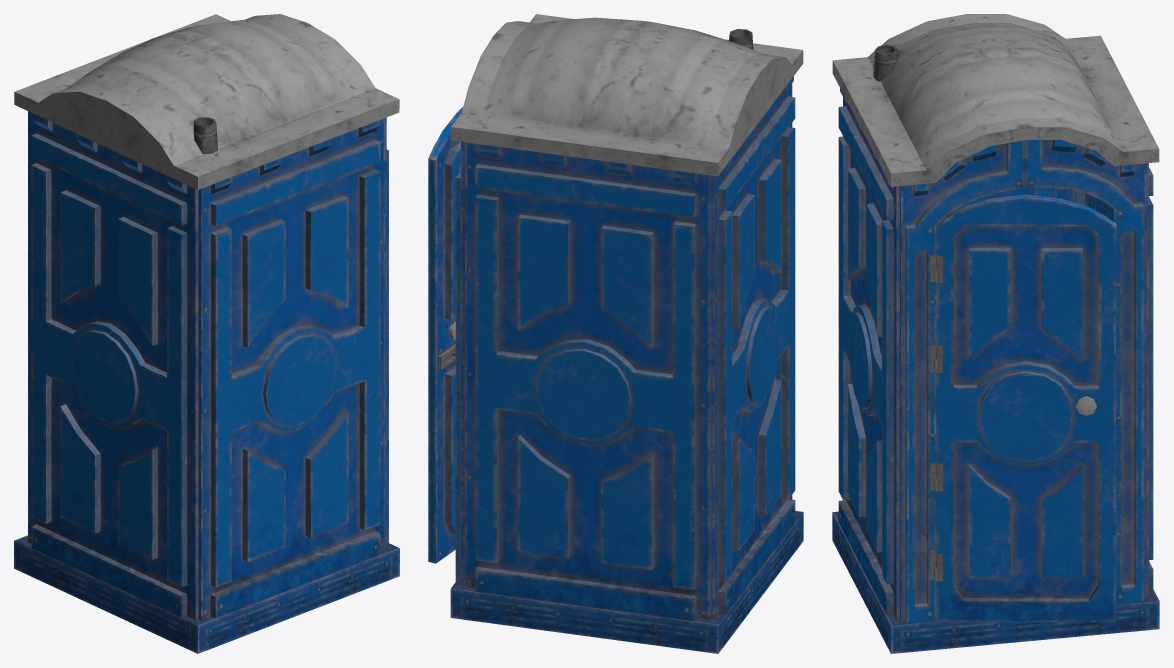
Rendered from Archery_Biotoilet01.fbx.
3 views of the same model, side by side, from view 1: azimuth 30°, elevation 25°; view 2: azimuth 150°, elevation 25°; view 3: azimuth 270°, elevation 25° (orthographic). The views are drawn at different scales.
Visible parts, largest first — view 1: ItemBox_Biotoilet_01; view 2: ItemBox_Biotoilet_01; view 3: ItemBox_Biotoilet_01.
Boxes of the visible parts, x1,y1,x2,y2 form: ItemBox_Biotoilet_01: (14,14,399,653); ItemBox_Biotoilet_01: (428,14,803,653); ItemBox_Biotoilet_01: (832,14,1159,653).
Bounding box in the file's own units: 167 × 299 × 166.
1 material, 1 textured.
